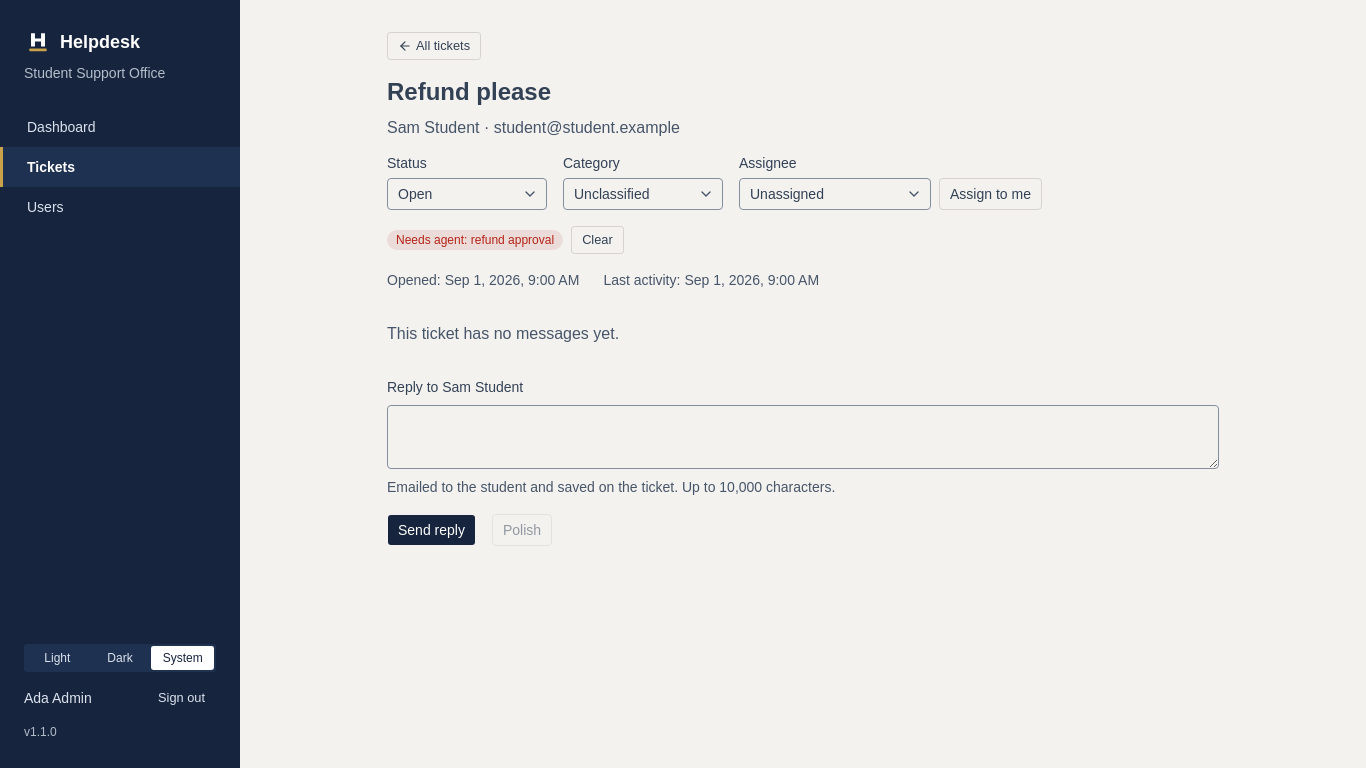
Scenario: clearing Needs agent takes the escalation reason with it
Expected: the text "Needs agent: refund approval" is shown, [387,230,563,250]
What coordinates should you click on to do the following:
click the button "Clear"
I would click on:
 (597, 240)
Its box is [571,226,624,254].
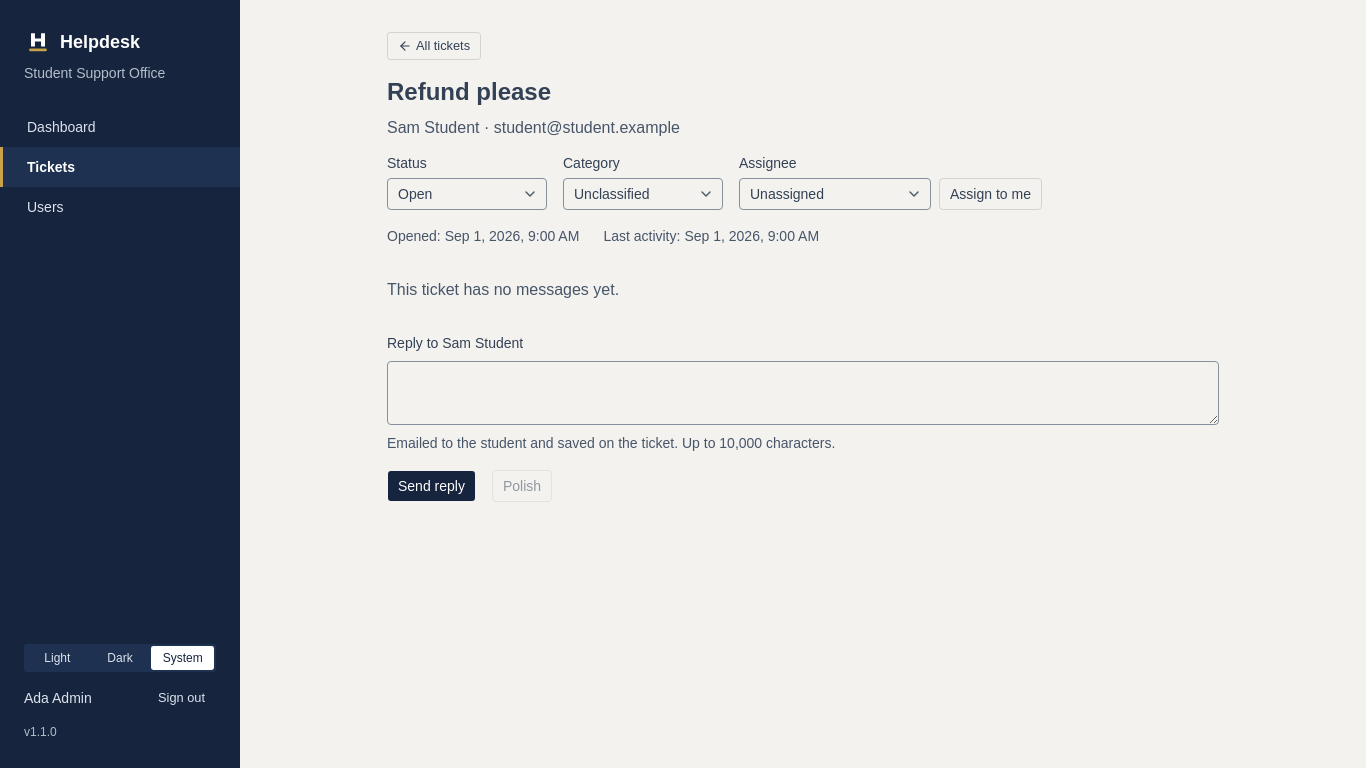
Now the text "Needs agent" is gone
